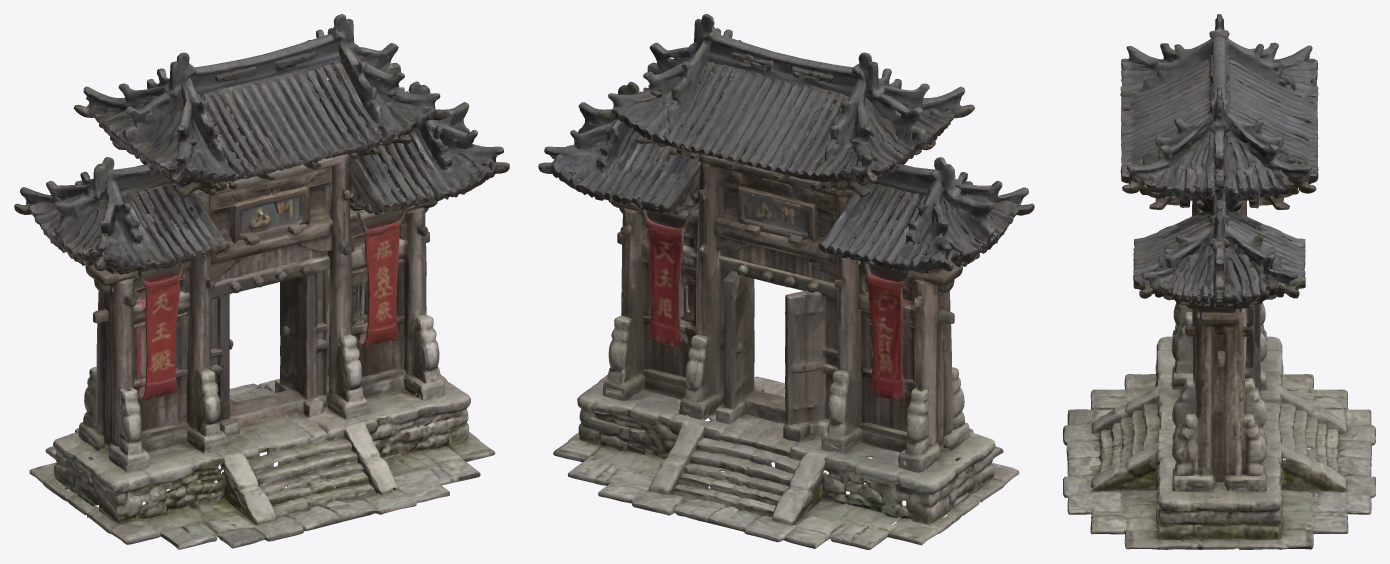
File: mountain-gate.glb
The picture shows the model from 3 angles, left to right: view 1: azimuth 30°, elevation 25°; view 2: azimuth 150°, elevation 25°; view 3: azimuth 270°, elevation 25°; orthographic projection. The views are drawn at different scales.
Parts seen in each view (by area): view 1: geometry_0; view 2: geometry_0; view 3: geometry_0.
Part boxes in pixels (x1,y1,x2,y2): geometry_0: (14,14,509,549); geometry_0: (538,14,1034,549); geometry_0: (1063,14,1375,549).
Size of the model in its own units: 8 by 7.99 by 5.48.
1 material, 1 textured.
